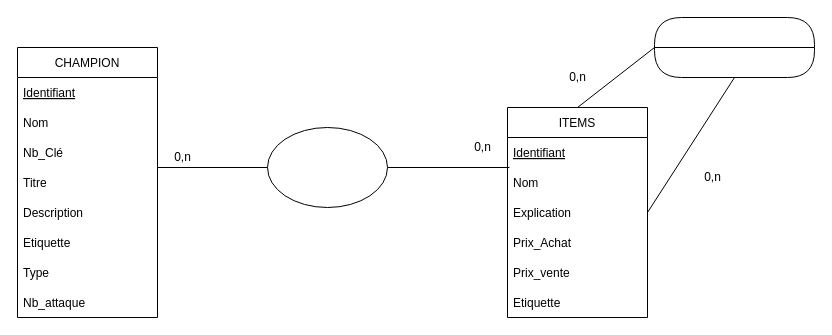
This 832x335 diagram has some shape labels left out. Here are the shapes that lost their labels. From the top down, the centre of each, then its label:
point (734, 47): Supérieur
point (327, 167): Possède
